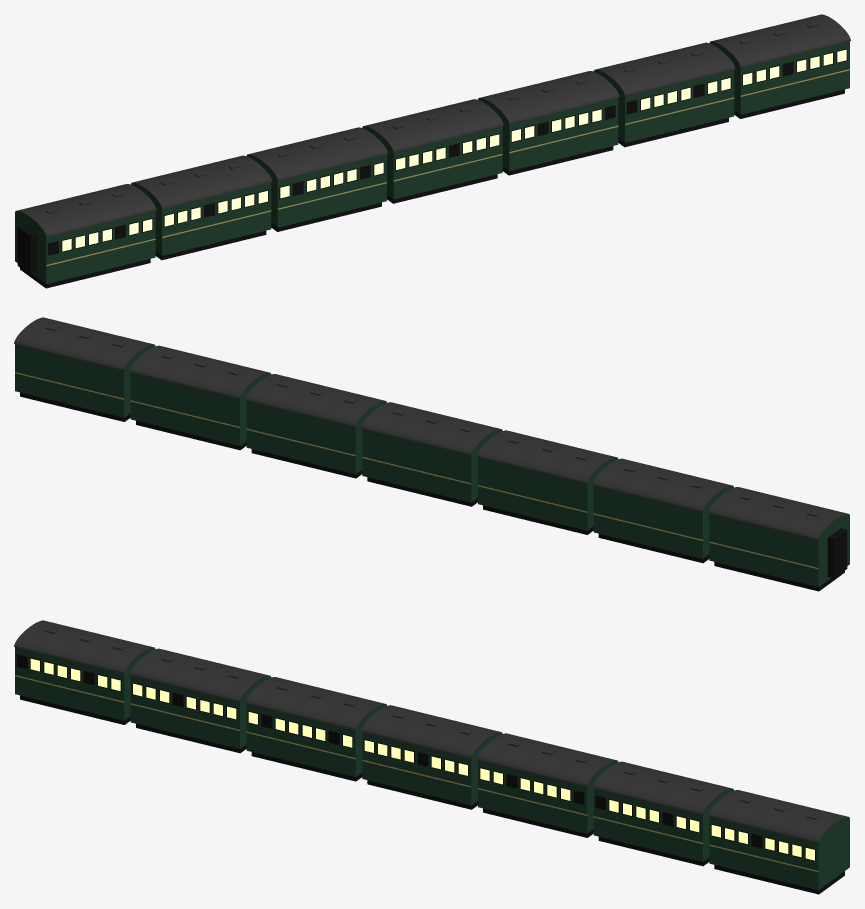
The model's file is train.glb.
The picture shows the model from 3 angles, top to bottom: view 1: azimuth 30°, elevation 25°; view 2: azimuth 150°, elevation 25°; view 3: azimuth 330°, elevation 25°; orthographic projection.
Visible parts, largest first — view 1: Zug_Wagen, Zug_Dach, Zug_Fahrgestell, Zug_Fenster_Hell, Zug_Streifen, Zug_Fenster_Dunkel; view 2: Zug_Wagen, Zug_Dach, Zug_Fahrgestell, Zug_Streifen; view 3: Zug_Wagen, Zug_Dach, Zug_Fahrgestell, Zug_Fenster_Hell, Zug_Streifen, Zug_Fenster_Dunkel.
Boxes of the visible parts, x1,y1,x2,y2 form: Zug_Wagen: [15, 41, 849, 284]; Zug_Dach: [17, 14, 850, 237]; Zug_Fahrgestell: [17, 48, 847, 288]; Zug_Fenster_Hell: [62, 49, 846, 251]; Zug_Streifen: [46, 69, 849, 266]; Zug_Fenster_Dunkel: [48, 63, 792, 254]; Zug_Wagen: [15, 344, 849, 587]; Zug_Dach: [14, 317, 847, 540]; Zug_Fahrgestell: [20, 392, 847, 591]; Zug_Streifen: [15, 372, 818, 569]; Zug_Wagen: [15, 647, 849, 890]; Zug_Dach: [14, 620, 847, 843]; Zug_Fahrgestell: [16, 654, 844, 894]; Zug_Fenster_Hell: [30, 658, 814, 860]; Zug_Streifen: [15, 675, 818, 872]; Zug_Fenster_Dunkel: [17, 655, 761, 847].
Bounding box in the file's own units: 43.44 × 3.29 × 3.
